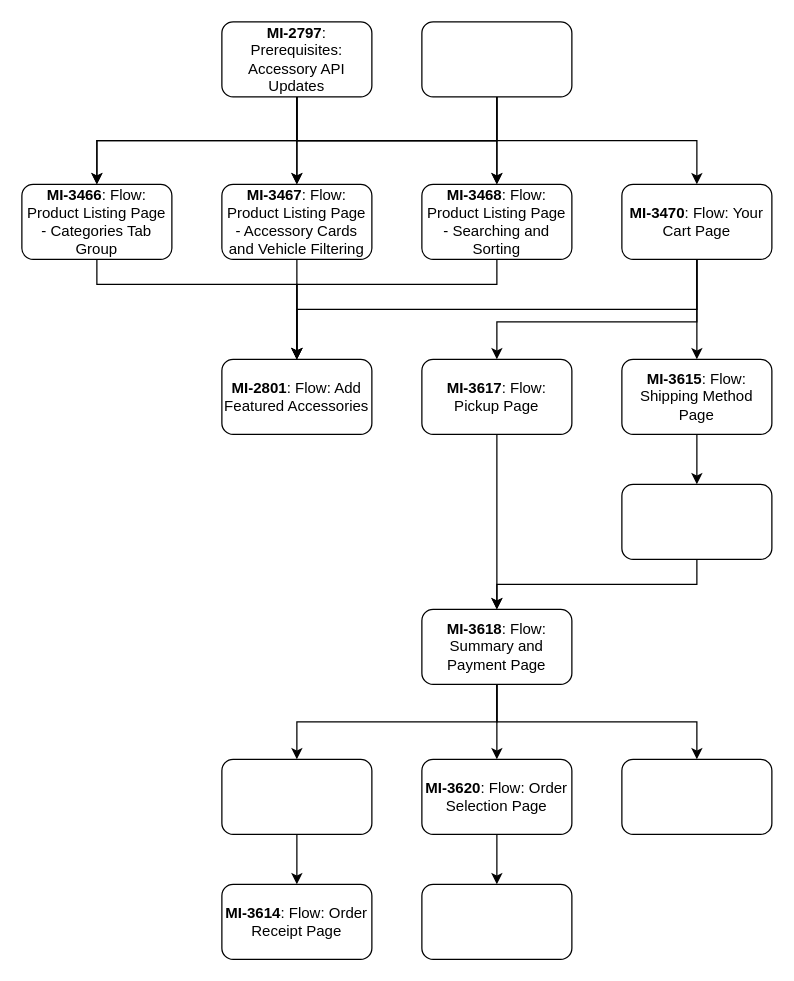
Some shapes in this 794 by 981 pixel diagram are drawn without their labels. The shapes that lost their labels are listed below. From the top down, each one's centre as x and y in pixels, then its label:
At pixel 496 59: "MI-2799 : Prerequisites: New order type".
At pixel 696 521: "MI-3616 : Flow: Delivery Page".
At pixel 296 796: "MI-3619 : Flow: Thank you Page".
At pixel 696 796: "MI-3634 : Flow: Implement Stripe Payments".
At pixel 496 921: "MI-3621 : Flow: Order Accessories Page".
